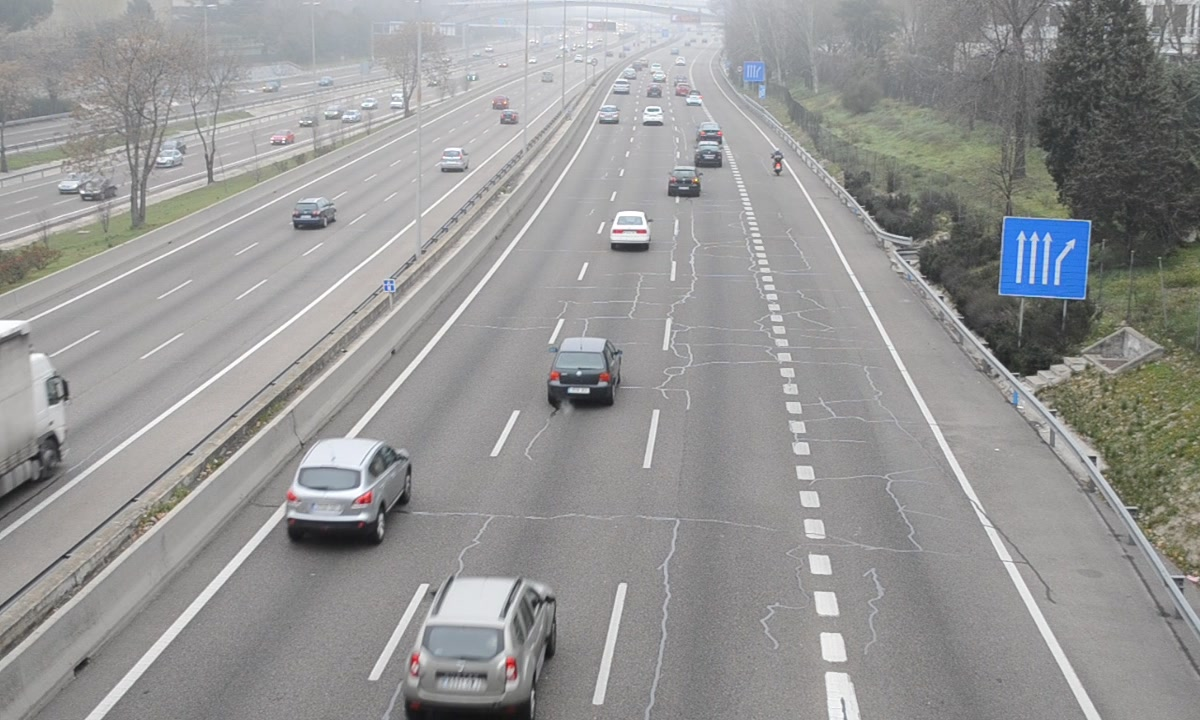car: (403, 578, 557, 714), (288, 438, 413, 527), (548, 338, 621, 402), (610, 210, 651, 248), (667, 166, 702, 198), (695, 142, 724, 167), (640, 104, 666, 128), (698, 122, 725, 143)
motorcycle: (771, 149, 785, 178)
